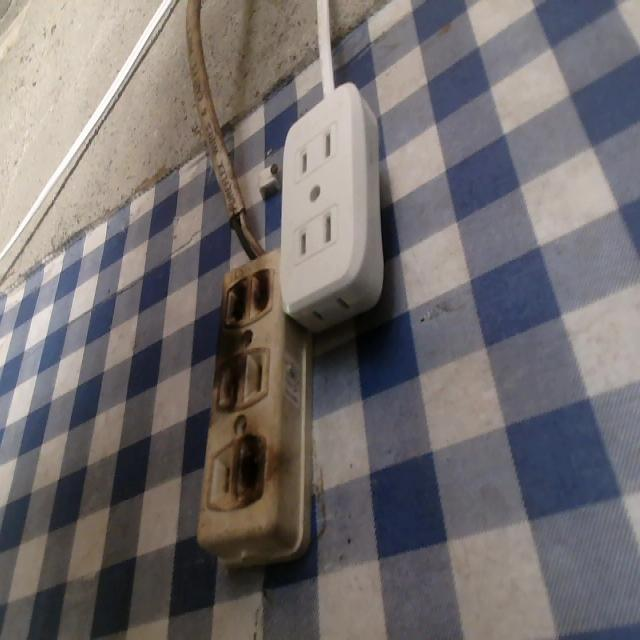-: (217, 265, 280, 327), (234, 430, 271, 510), (211, 353, 252, 412)
